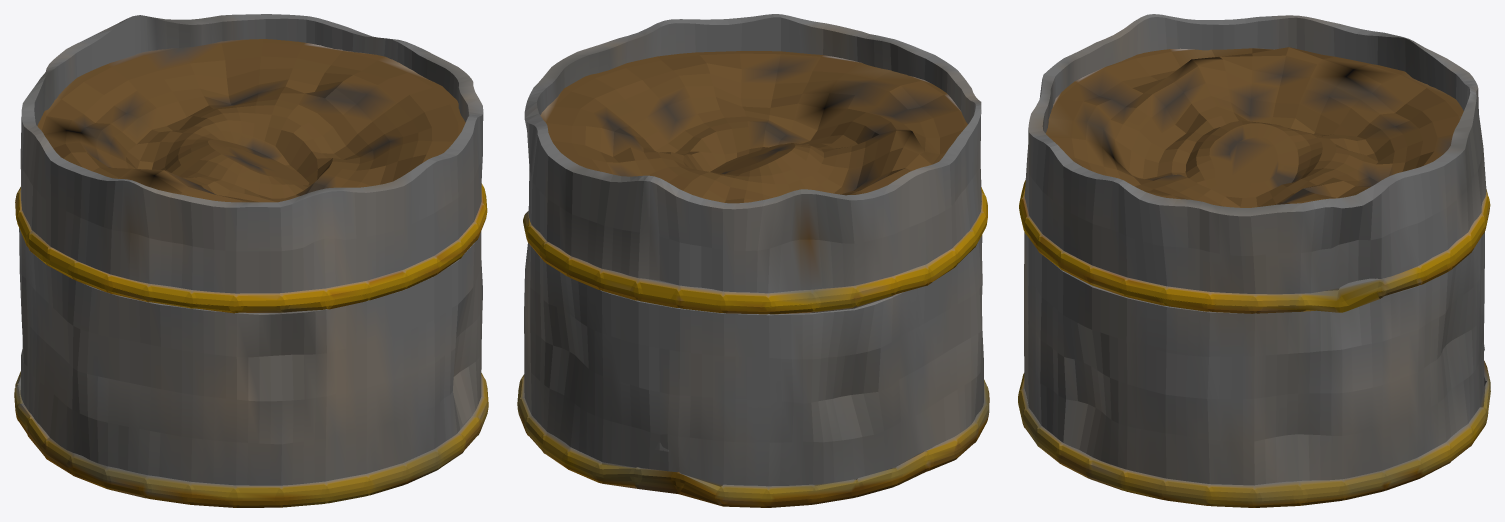
File: barrel_with_dirt.glb
3 views of the same model, side by side, from view 1: azimuth 30°, elevation 25°; view 2: azimuth 150°, elevation 25°; view 3: azimuth 270°, elevation 25° (orthographic).
Parts seen in each view (by area): view 1: ripped barrel dirt; view 2: ripped barrel dirt; view 3: ripped barrel dirt.
Boxes of the visible parts, left/top/right/bottom form: ripped barrel dirt: left=14, top=14, right=488, bottom=507; ripped barrel dirt: left=517, top=14, right=989, bottom=507; ripped barrel dirt: left=1018, top=14, right=1490, bottom=507.
Bounding box in the file's own units: 2.06 × 1.52 × 2.06.
